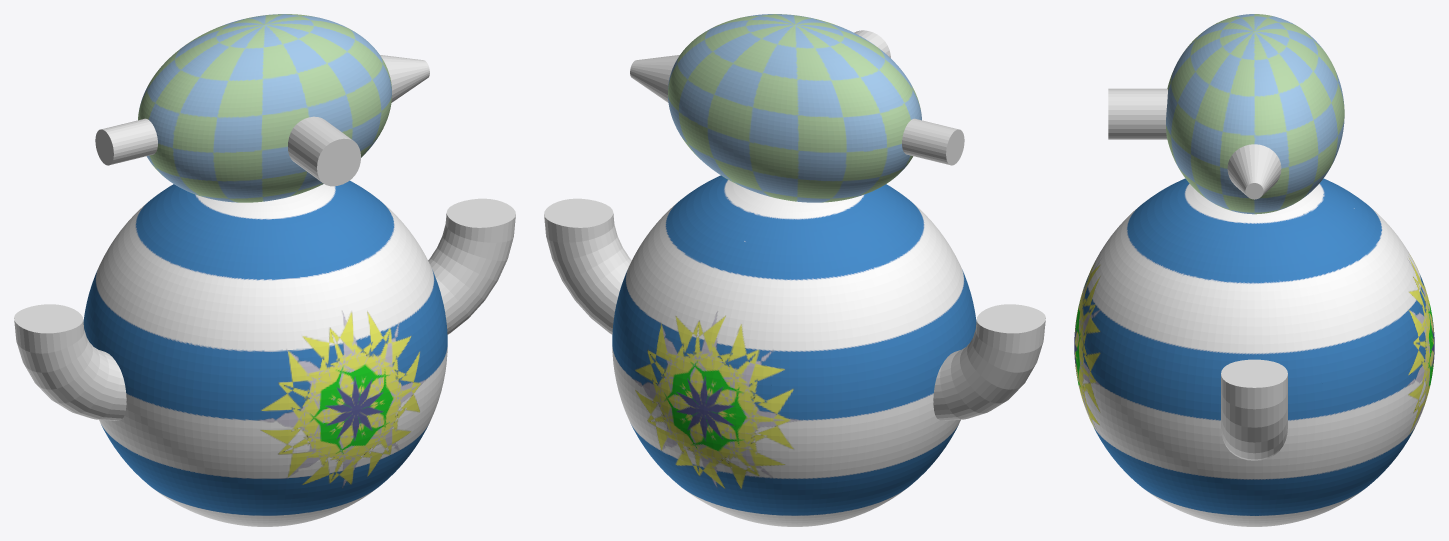
File: BOD0_BMC2_BCC8_BPT1_FRC20_HEA1_HMC14_HCC15_HPT4_ELT1_ERT2_ELL0_ERL1_AP3_AAL1_AAR1_BEK1.fbx
3 views of the same model, side by side, from view 1: azimuth 30°, elevation 25°; view 2: azimuth 150°, elevation 25°; view 3: azimuth 270°, elevation 25° (orthographic).
Parts seen in each view (by area): view 1: Body, Arm.001, Arm, Beak, Ear, Ear.001; view 2: Body, Arm.001, Arm, Ear, Ear.001; view 3: Body, Arm, Beak, Ear.001.
Boxes of the visible parts, box(x1,y1,x2,y2) form: Body: box(83, 14, 447, 526); Arm.001: box(14, 304, 126, 420); Arm: box(428, 198, 515, 334); Beak: box(288, 116, 360, 186); Ear: box(95, 118, 157, 165); Ear.001: box(380, 55, 429, 102); Body: box(612, 14, 976, 526); Arm.001: box(933, 304, 1045, 420); Arm: box(544, 198, 631, 334); Ear: box(902, 118, 964, 165); Ear.001: box(630, 55, 679, 102); Body: box(1074, 14, 1434, 526); Arm: box(1221, 359, 1287, 460); Beak: box(1108, 88, 1167, 139); Ear.001: box(1227, 144, 1281, 199).
Bounding box in the file's own units: 76.63 × 72.41 × 49.36.
1 material, 1 textured.
